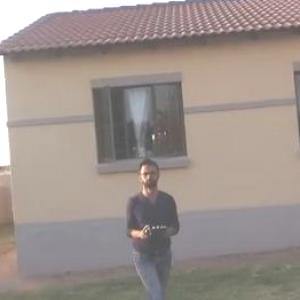follow: (122, 153, 186, 299)
